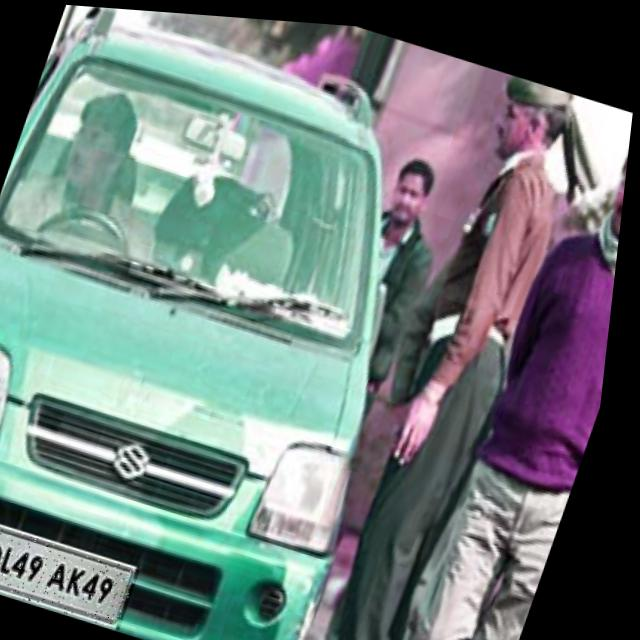license_plate: (0, 514, 156, 627)
